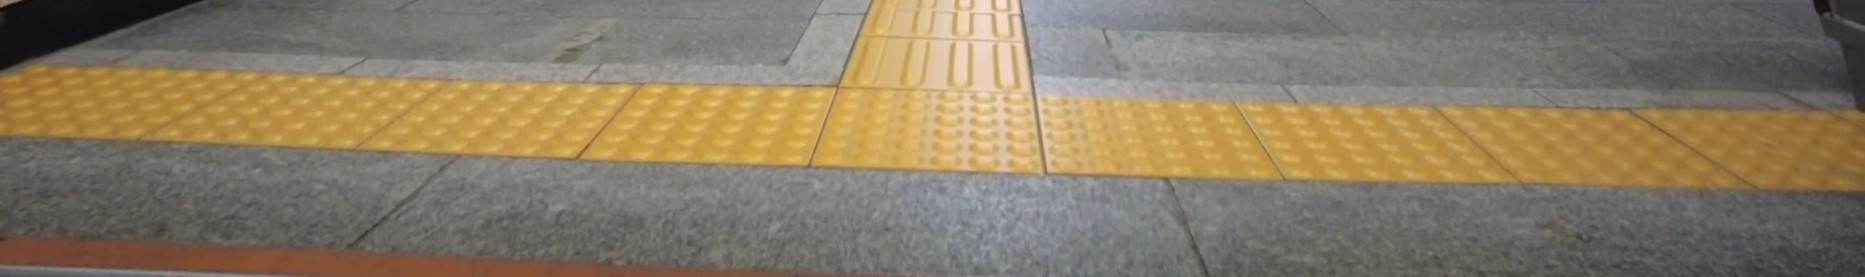guideBlock: (842, 34, 1044, 84)
warningBlock: (1452, 84, 1713, 189), (1236, 95, 1492, 182), (613, 93, 833, 183), (1044, 100, 1282, 182), (1674, 105, 1865, 196), (230, 74, 417, 164), (828, 88, 1038, 168), (4, 62, 219, 138), (391, 78, 590, 145)
